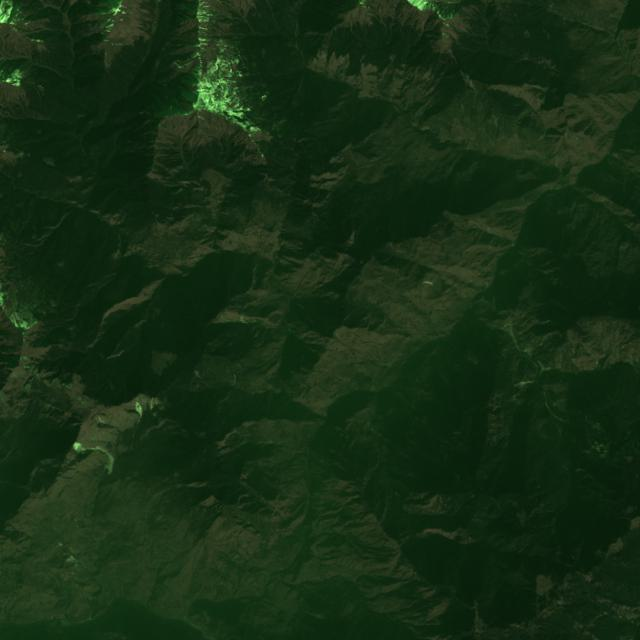landslides: (444, 449, 473, 493), (515, 319, 550, 338), (513, 246, 535, 275), (66, 555, 92, 573), (98, 447, 114, 476), (390, 388, 408, 412), (547, 8, 576, 22), (414, 417, 433, 438), (0, 390, 13, 418), (438, 360, 450, 385), (21, 375, 36, 394), (135, 395, 144, 425), (7, 366, 26, 379), (500, 315, 513, 333), (558, 348, 567, 371), (72, 442, 84, 454), (140, 393, 148, 410), (74, 518, 91, 526), (150, 396, 159, 411), (573, 357, 582, 372), (240, 315, 253, 324), (435, 343, 442, 359), (537, 360, 546, 372), (470, 80, 476, 98), (84, 446, 99, 453), (221, 313, 231, 323)
